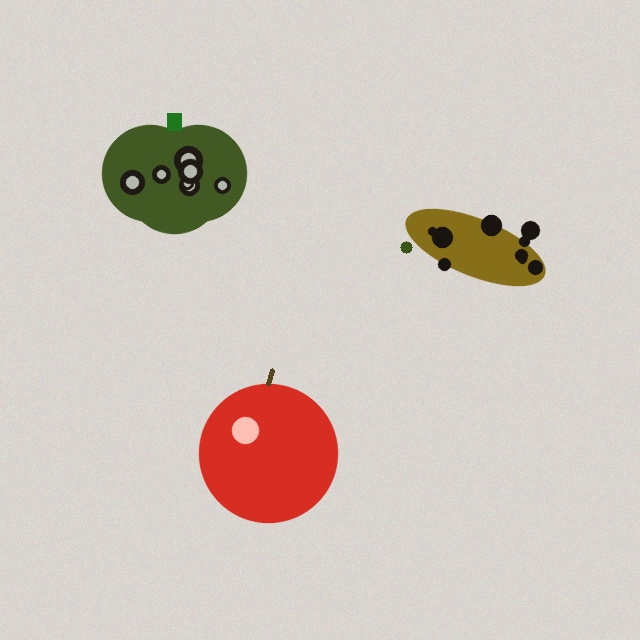Fresh apple: (199, 370, 337, 522)
Rotten banana: (398, 212, 552, 282)
Rotten bell pepper: (102, 113, 246, 233)
